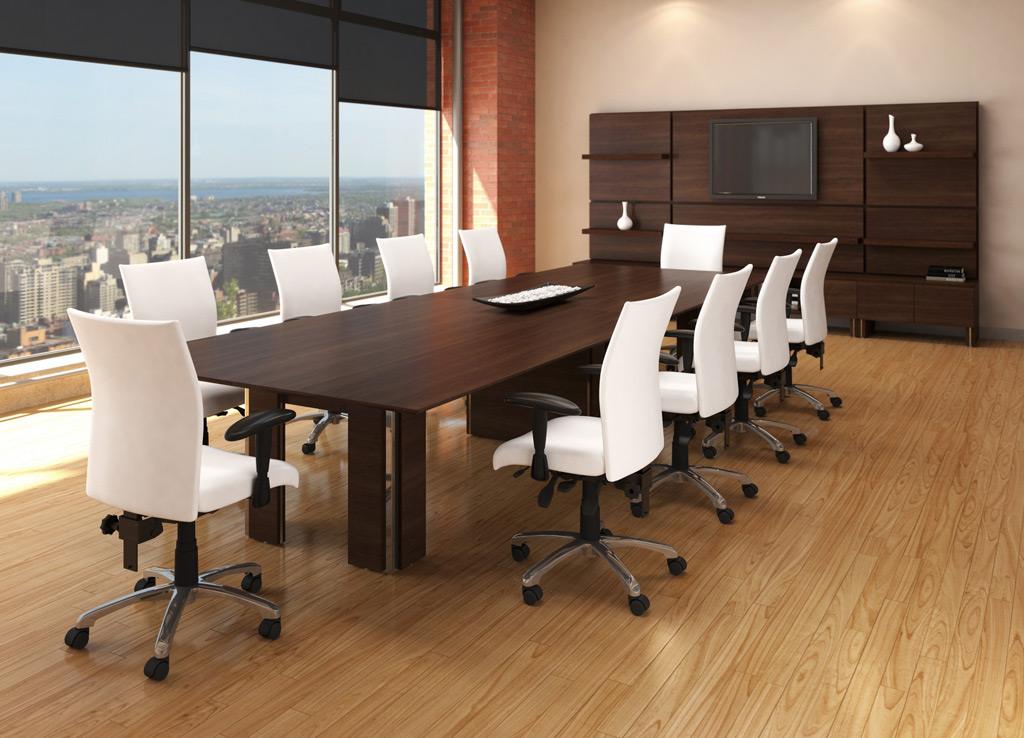conference_table: (182, 261, 780, 574)
